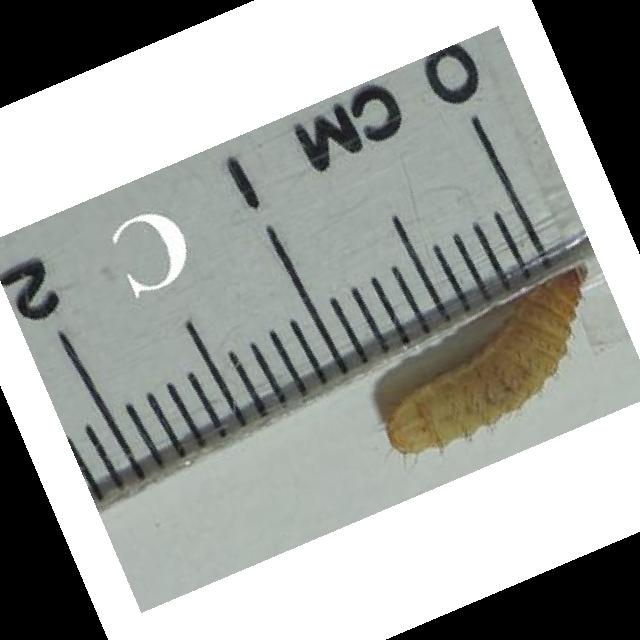Maggot: (386, 265, 595, 461)
